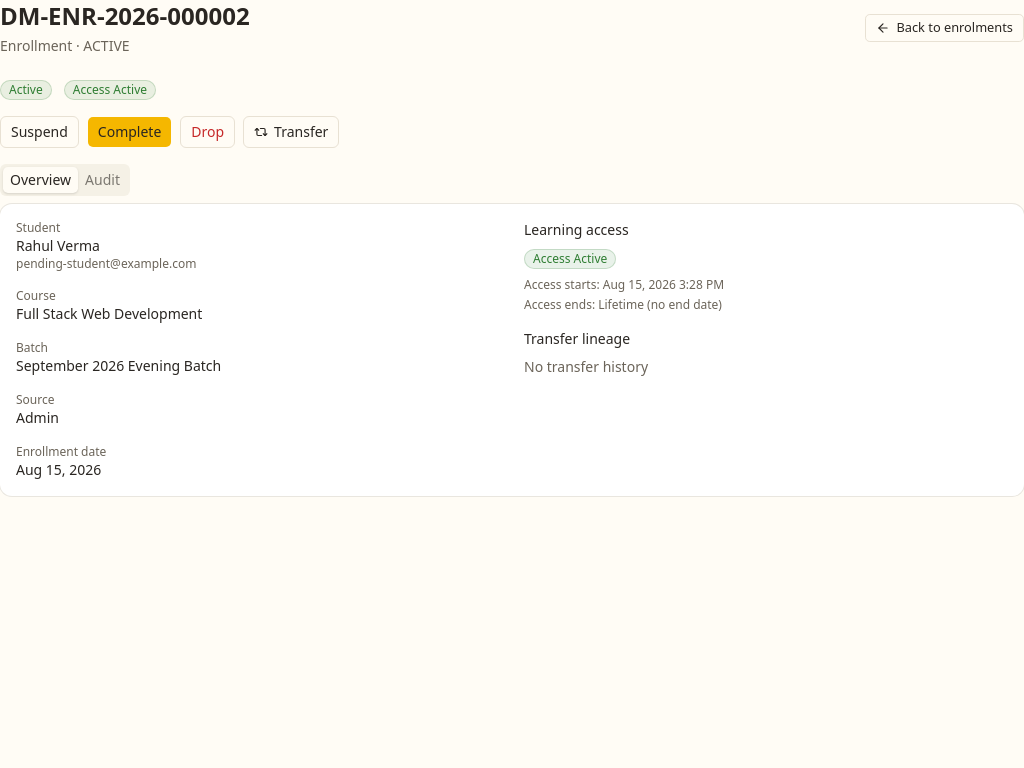
Test case: EnrollmentDetailPage › drops an ACTIVE enrollment after confirmation
Expected: the heading "DM-ENR-2026-000002" is shown, [0,0,250,32]
Click the button "Drop".
click(208, 132)  # box [180,116,235,148]
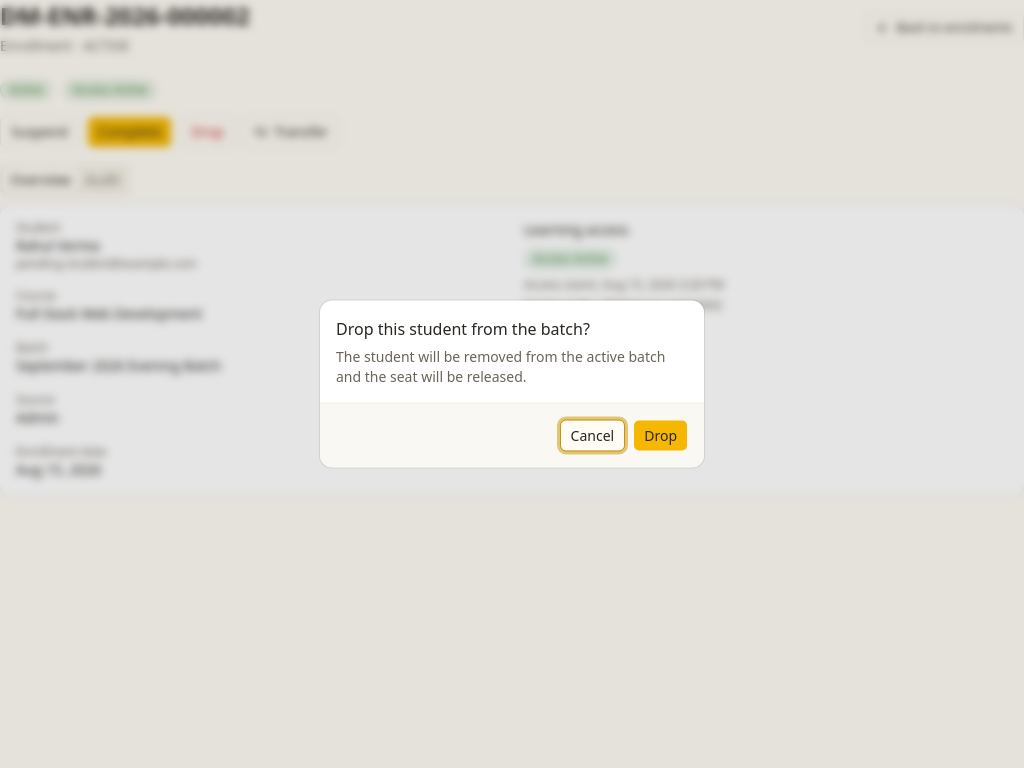
Click the button "Drop".
click(661, 436)  # box [633,420,688,452]
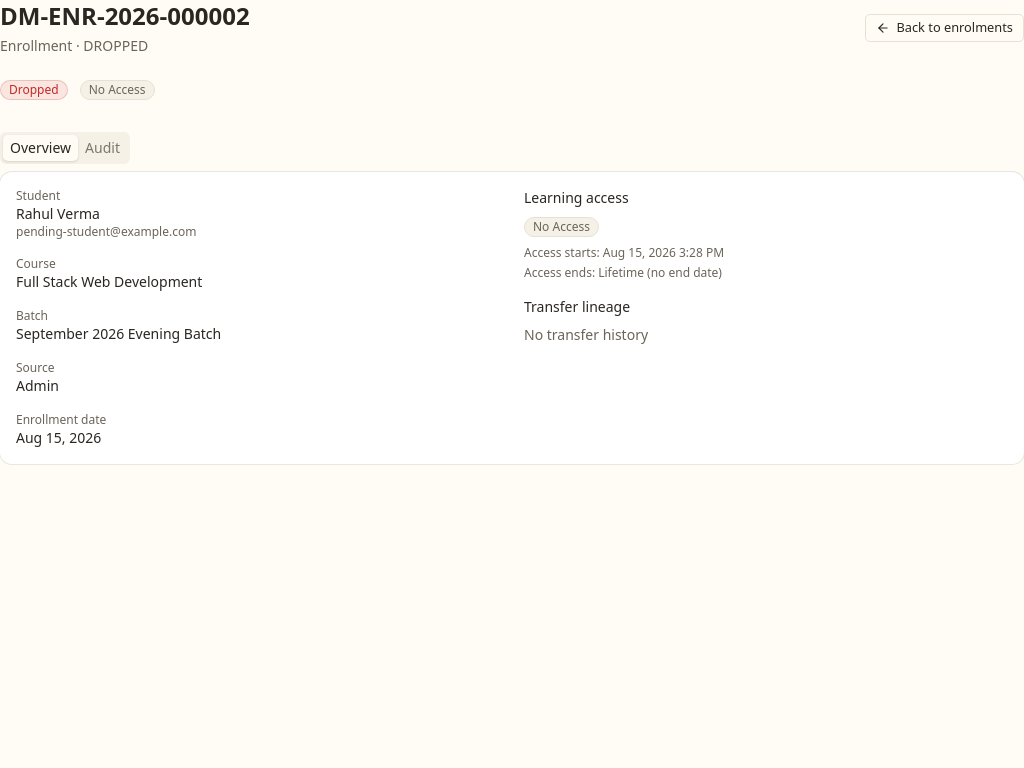
Result: the text "Dropped" is shown at [0,80,68,100]
